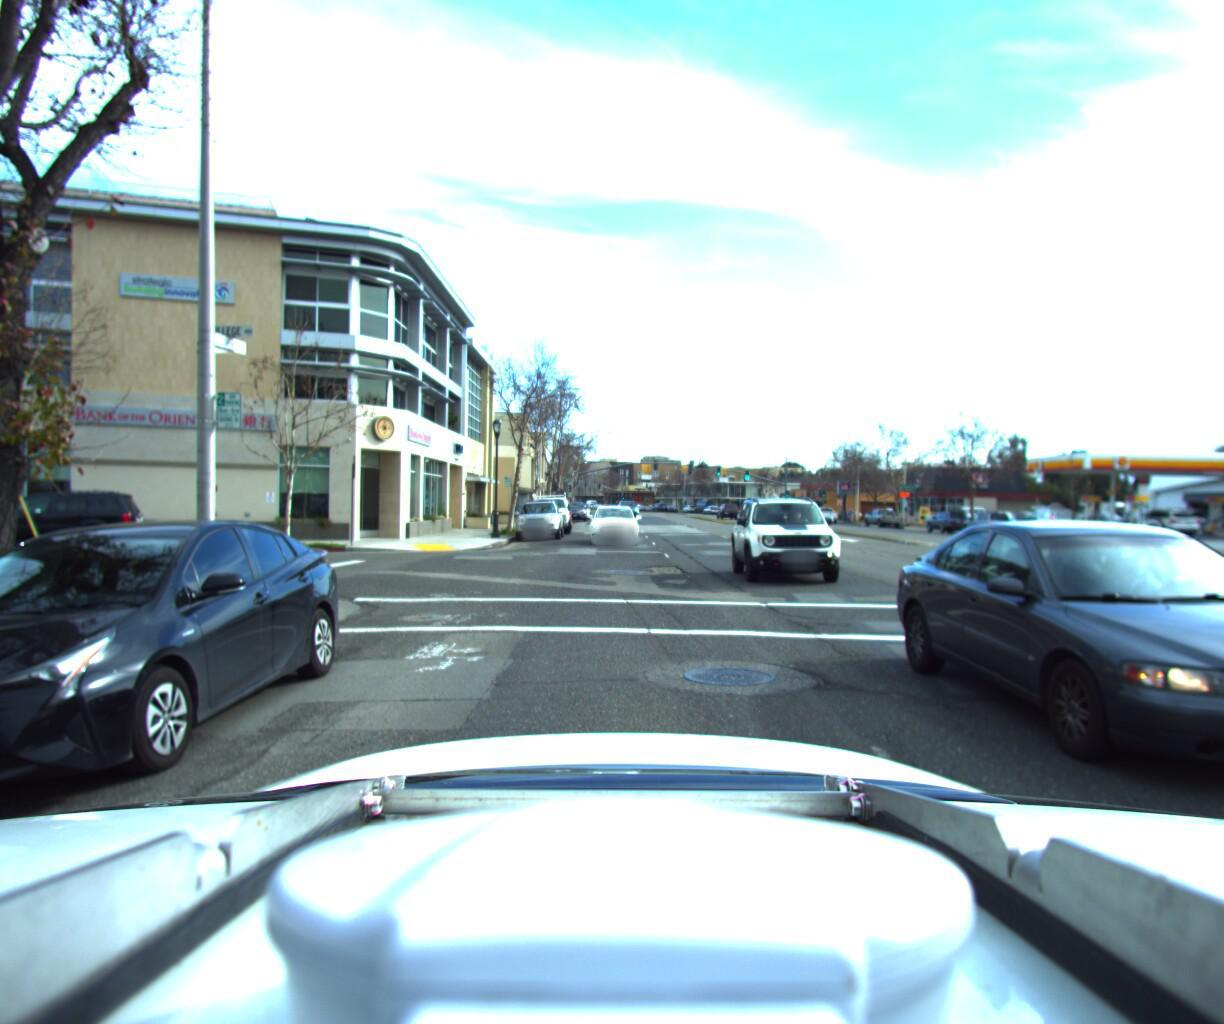car: (921, 505, 1224, 944), (0, 500, 361, 850), (728, 487, 857, 593), (0, 481, 152, 551), (1120, 497, 1204, 530), (584, 498, 637, 543), (524, 480, 571, 528), (514, 489, 564, 535), (1018, 492, 1078, 525), (956, 499, 1012, 529), (992, 504, 1047, 532), (921, 499, 971, 525), (862, 497, 902, 519), (563, 492, 588, 513), (716, 499, 737, 515)
